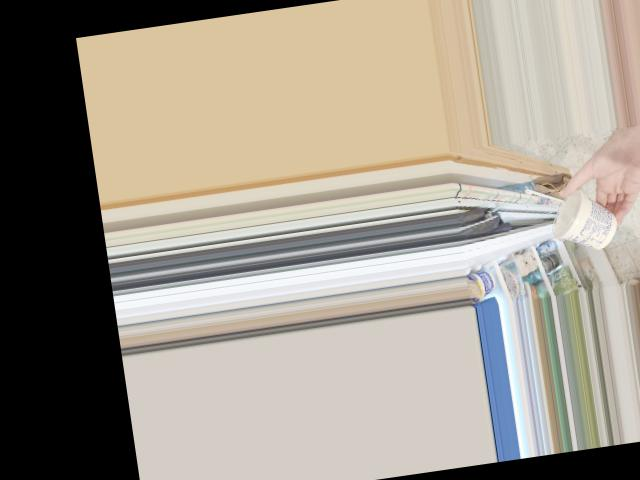cotage: (547, 189, 618, 253)
